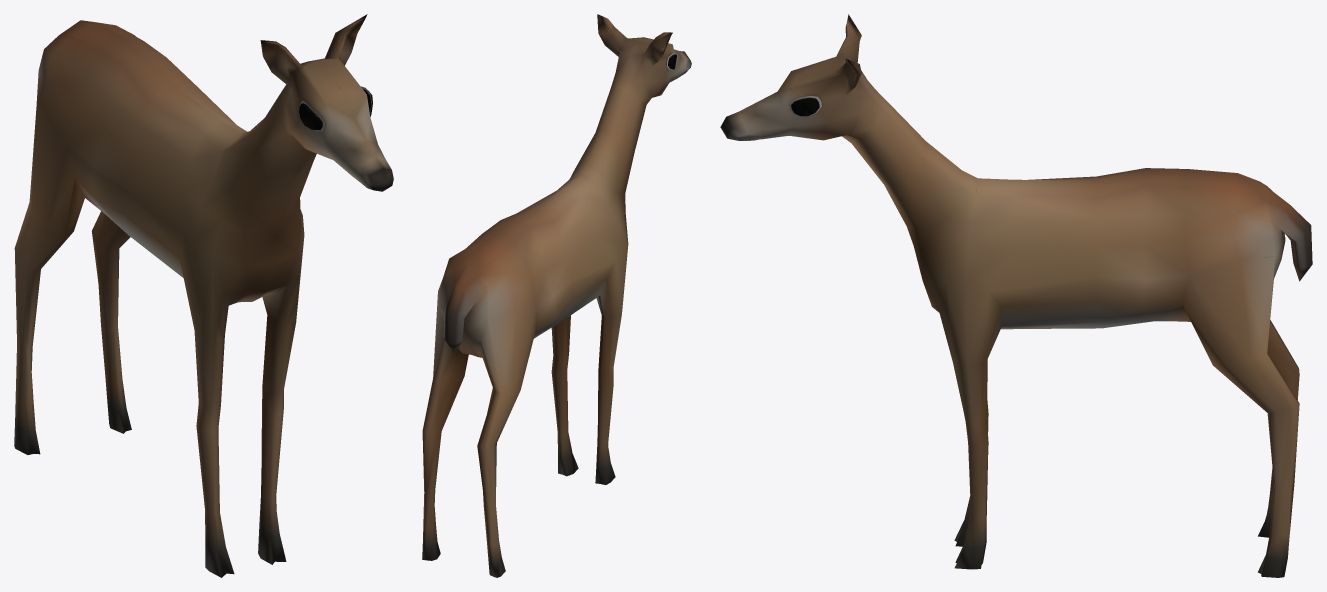
File: deerFemale.obj
3 views of the same model, side by side, from view 1: azimuth 30°, elevation 25°; view 2: azimuth 150°, elevation 25°; view 3: azimuth 270°, elevation 25° (orthographic). The views are drawn at different scales.
Visible parts, largest first — view 1: alt585.001_Mesh.001; view 2: alt585.001_Mesh.001; view 3: alt585.001_Mesh.001.
Boxes of the visible parts, x1=… form: alt585.001_Mesh.001: x1=14, y1=14, x2=393, y2=577; alt585.001_Mesh.001: x1=422, y1=14, x2=691, y2=577; alt585.001_Mesh.001: x1=720, y1=14, x2=1312, y2=577.
Bounding box in the file's own units: 0.3487 × 1.76 × 1.82.
Materials: 1 (1 with a texture image).
